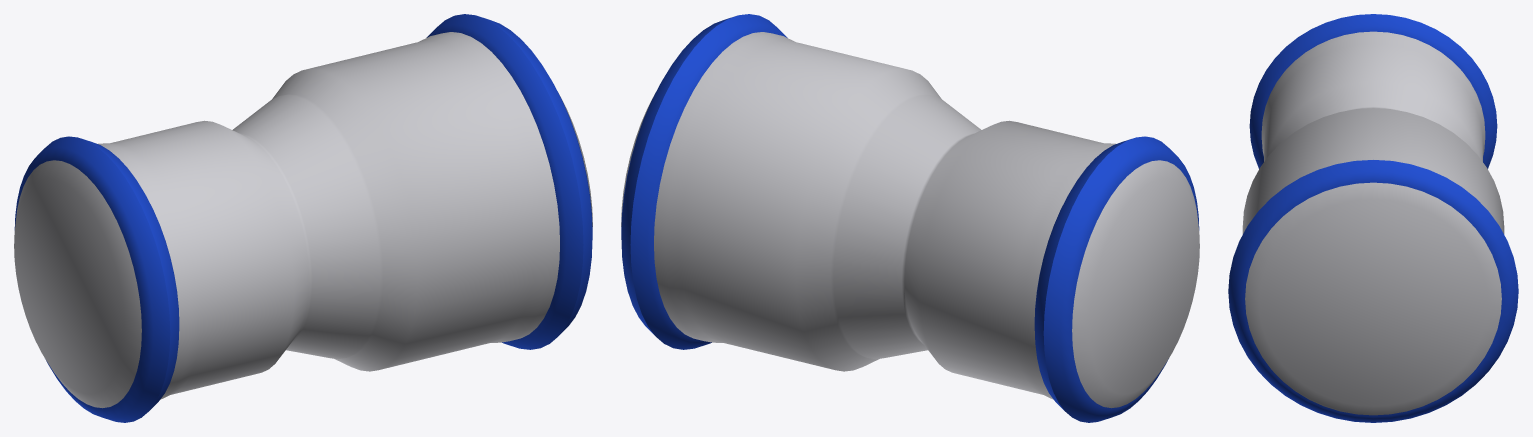
File: fitting_cp_35x28.glb
3 renders of one model, left to right at view 1: azimuth 30°, elevation 25°; view 2: azimuth 150°, elevation 25°; view 3: azimuth 270°, elevation 25°, orthographic. The views are drawn at different scales.
Visible parts, largest first — view 1: муфта, кольцо пресс, кольцо пресс.001; view 2: муфта, кольцо пресс, кольцо пресс.001; view 3: муфта, кольцо пресс.001, кольцо пресс.
Part boxes in pixels (x1,y1,x2,y2): муфта: (14,32,592,408); кольцо пресс: (14,136,179,422); кольцо пресс.001: (426,14,592,349); муфта: (621,32,1199,408); кольцо пресс: (1034,136,1199,422); кольцо пресс.001: (621,14,787,349); муфта: (1242,31,1504,415); кольцо пресс.001: (1228,160,1518,422); кольцо пресс: (1249,14,1497,168).
Bounding box in the file's own units: 0.074 × 0.0483 × 0.0483.
